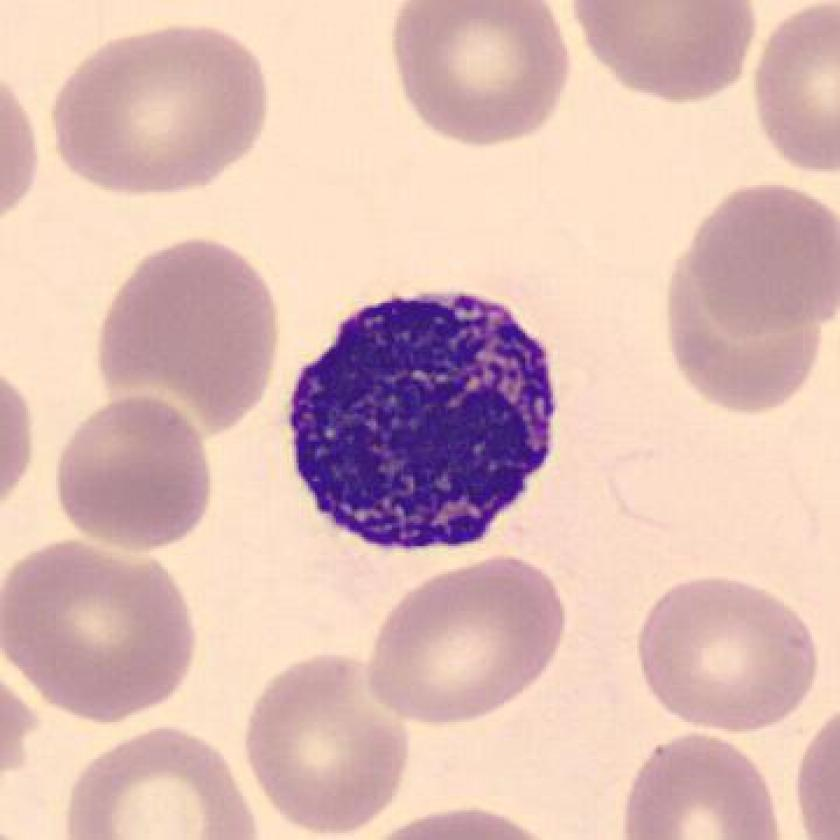basophil: (281, 279, 566, 559)
